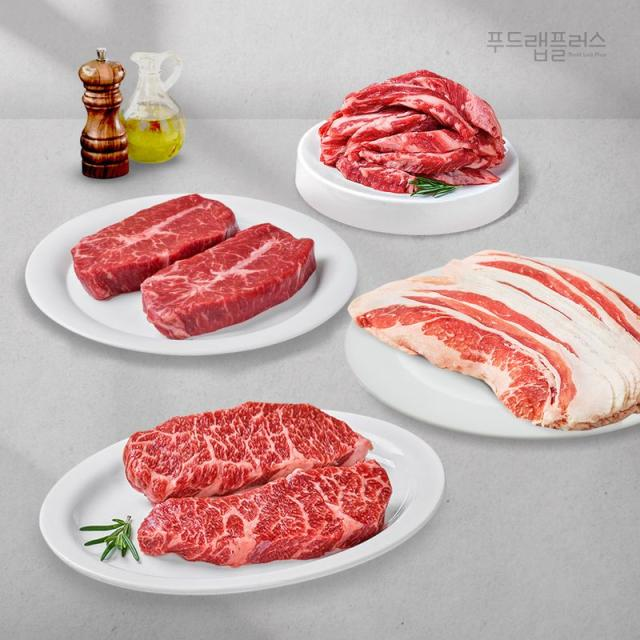beef: (440, 281, 606, 369), (176, 429, 318, 522), (120, 215, 256, 311), (375, 90, 465, 160)
